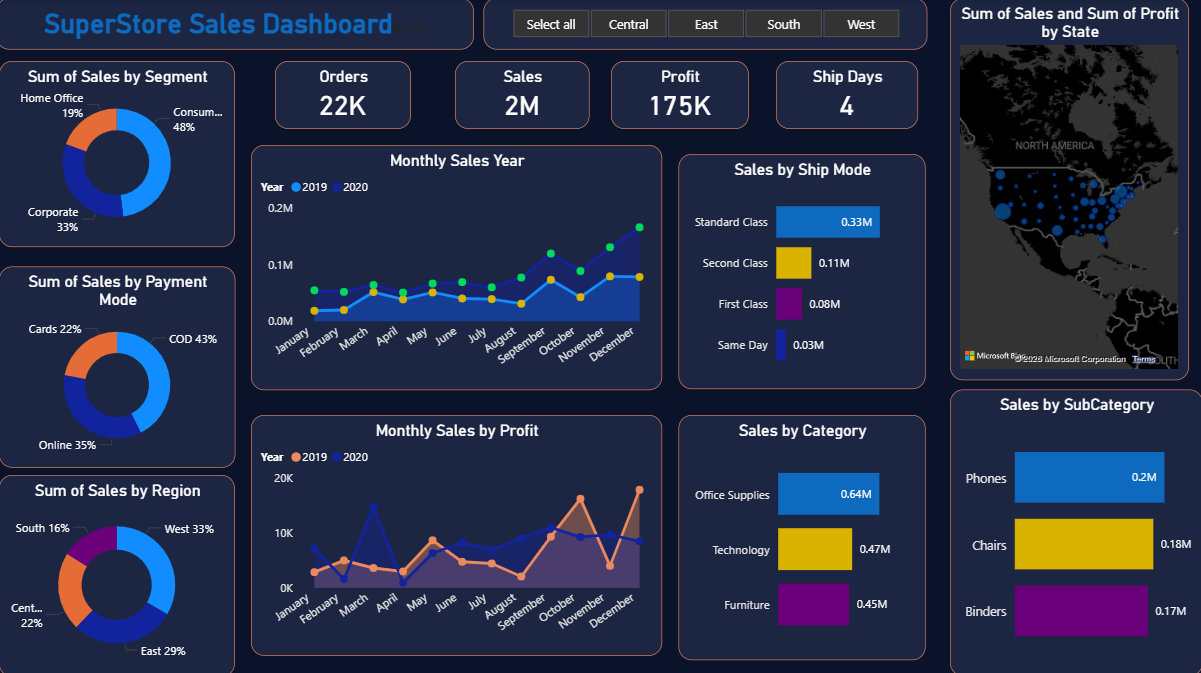

What the dashboard file says about the page in this screenshot:
{"tool":"powerbi","page":{"name":"Page 1","canvas":[1280,720],"ordinal":0},"visuals":[{"type":"clusteredBarChart","title":"Sales by Category","fields":{"Category":["SuperStore_Sales_Dataset (1).Category"],"Y":["Sum(SuperStore_Sales_Dataset (1).Sales)"]},"box":[724.4,442.2,261.9,260.3],"z":0},{"type":"clusteredBarChart","title":"Sales by SubCategory","fields":{"Y":["Sum(SuperStore_Sales_Dataset (1).Sales)"],"Category":["SuperStore_Sales_Dataset (1).Sub-Category"]},"box":[1011.4,415.5,268.1,304.2],"z":1000},{"type":"clusteredBarChart","title":"Sales by Ship Mode","fields":{"Category":["SuperStore_Sales_Dataset (1).Ship Mode"],"Y":["Sum(SuperStore_Sales_Dataset (1).Sales)"]},"box":[724.4,166.2,261.9,249.3],"z":2000},{"type":"areaChart","title":"Monthly Sales  Year","fields":{"Category":["SuperStore_Sales_Dataset (1).Order Date.Variation.Date Hierarchy.Month","SuperStore_Sales_Dataset (1).Order Date.Variation.Date Hierarchy.Day"],"Y":["Sum(SuperStore_Sales_Dataset (1).Sales)"],"Series":["SuperStore_Sales_Dataset (1).Order Date.Variation.Date Hierarchy.Year"]},"box":[269.7,155.2,435.9,260.3],"z":3000},{"type":"areaChart","title":"Monthly Sales by Profit","fields":{"Category":["SuperStore_Sales_Dataset (1).Order Date.Variation.Date Hierarchy.Month","SuperStore_Sales_Dataset (1).Order Date.Variation.Date Hierarchy.Day"],"Series":["SuperStore_Sales_Dataset (1).Order Date.Variation.Date Hierarchy.Year"],"Y":["Sum(SuperStore_Sales_Dataset (1).Profit)"]},"box":[269.7,442.2,435.9,255.6],"z":4000},{"type":"map","fields":{"Category":["SuperStore_Sales_Dataset (1).State"],"Size":["Sum(SuperStore_Sales_Dataset (1).Sales)"]},"box":[1012,0,253.4,405.1],"z":5000},{"type":"donutChart","fields":{"Category":["SuperStore_Sales_Dataset (1).Segment"],"Y":["Sum(SuperStore_Sales_Dataset (1).Sales)"]},"box":[3.1,67.3,250.3,197.1],"z":6000},{"type":"donutChart","fields":{"Y":["Sum(SuperStore_Sales_Dataset (1).Sales)"],"Category":["SuperStore_Sales_Dataset (1).Payment Mode"]},"box":[3.1,285.4,250.9,213.2],"z":7000},{"type":"slicer","fields":{"Values":["SuperStore_Sales_Dataset (1).Region"]},"box":[517.4,0,470.4,54.9],"z":8000},{"type":"textbox","box":[0,0,506.8,54.7],"z":9000},{"type":"card","title":"Sales","fields":{"Values":["Sum(SuperStore_Sales_Dataset (1).Sales)"]},"box":[486.1,67.4,142.7,72.1],"z":10000},{"type":"card","title":"Orders","fields":{"Values":["Sum(SuperStore_Sales_Dataset (1).Quantity)"]},"box":[296.3,67.4,144.3,72.1],"z":11000},{"type":"card","title":"Profit","fields":{"Values":["Sum(SuperStore_Sales_Dataset (1).Profit)"]},"box":[652.3,67.4,145.8,72.1],"z":12000},{"type":"card","title":"Ship Days","fields":{"Values":["Avg(SuperStore_Sales_Dataset (1).AvgDelivery)"]},"box":[826.3,67.4,150.5,72.1],"z":13000},{"type":"donutChart","fields":{"Y":["Sum(SuperStore_Sales_Dataset (1).Sales)"],"Category":["SuperStore_Sales_Dataset (1).Region"]},"box":[3.1,505.2,250.3,214.3],"z":14000}]}

Visuals, with their boxes in screenshot pixels (x1, y1, x2, y2), scaled from the page's 1280x720 canvas onto the 1201x673 screenshot:
"Sales by Category" clusteredBarChart: region(680, 413, 925, 657)
"Sales by SubCategory" clusteredBarChart: region(949, 388, 1200, 672)
"Sales by Ship Mode" clusteredBarChart: region(680, 155, 925, 388)
"Monthly Sales  Year" areaChart: region(253, 145, 662, 388)
"Monthly Sales by Profit" areaChart: region(253, 413, 662, 652)
map - SuperStore_Sales_Dataset (1).State x Sum(SuperStore_Sales_Dataset (1).Sales): region(950, 0, 1187, 379)
donutChart - SuperStore_Sales_Dataset (1).Segment x Sum(SuperStore_Sales_Dataset (1).Sales): region(3, 63, 238, 247)
donutChart - Sum(SuperStore_Sales_Dataset (1).Sales) x SuperStore_Sales_Dataset (1).Payment Mode: region(3, 267, 238, 466)
slicer - SuperStore_Sales_Dataset (1).Region: region(485, 0, 927, 51)
textbox: region(0, 0, 476, 51)
"Sales" card: region(456, 63, 590, 130)
"Orders" card: region(278, 63, 413, 130)
"Profit" card: region(612, 63, 749, 130)
"Ship Days" card: region(775, 63, 917, 130)
donutChart - Sum(SuperStore_Sales_Dataset (1).Sales) x SuperStore_Sales_Dataset (1).Region: region(3, 472, 238, 672)
